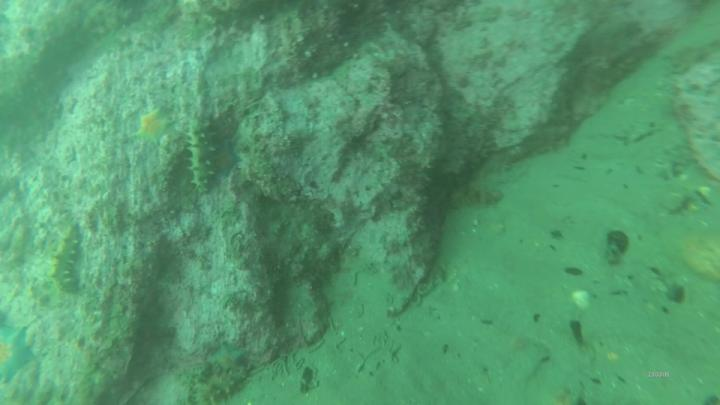holothurian: (187, 122, 217, 198), (54, 230, 80, 293)
starfish: (2, 327, 32, 382), (133, 113, 173, 147), (210, 347, 243, 376)
